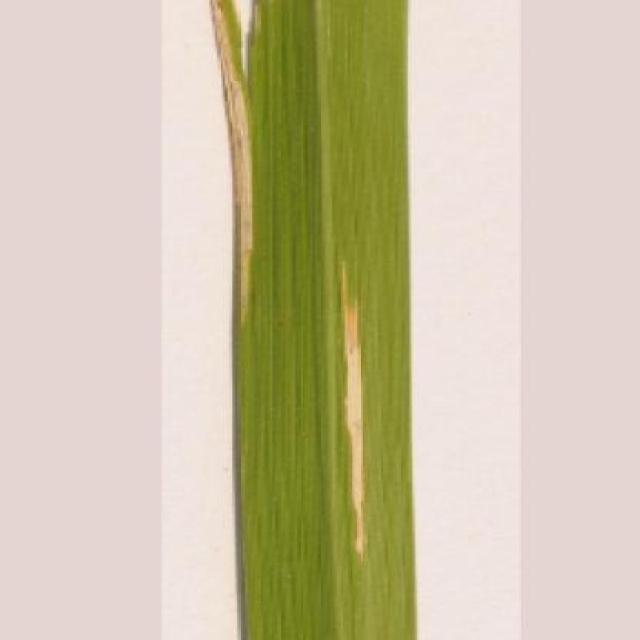Brown_Spot: (209, 0, 420, 640)
